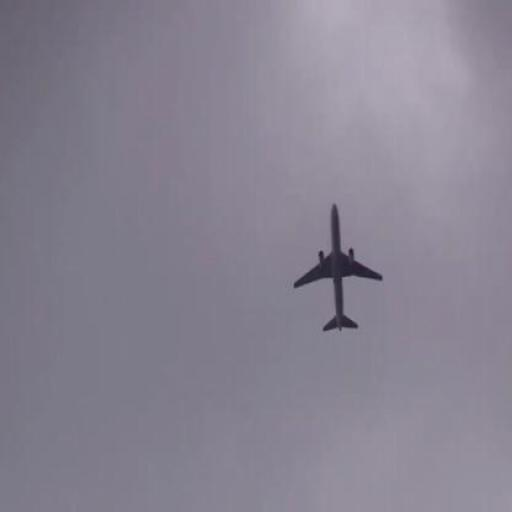aircraft: (292, 204, 383, 331)
